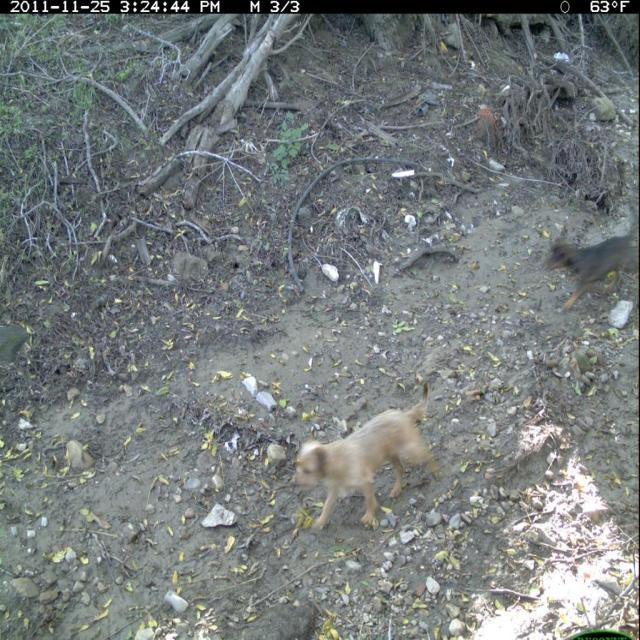dog: (293, 377, 446, 538)
